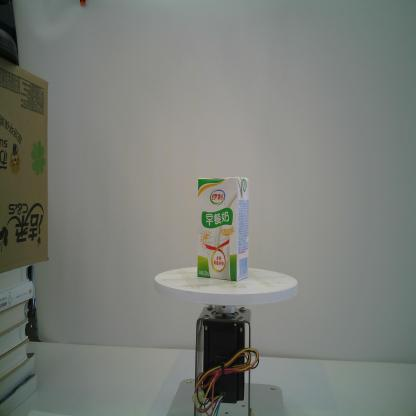Milk: (196, 176, 250, 282)
